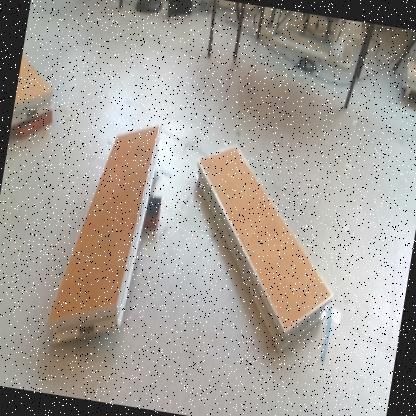Stairs: (194, 143, 335, 360), (45, 122, 163, 349), (11, 54, 55, 131)
